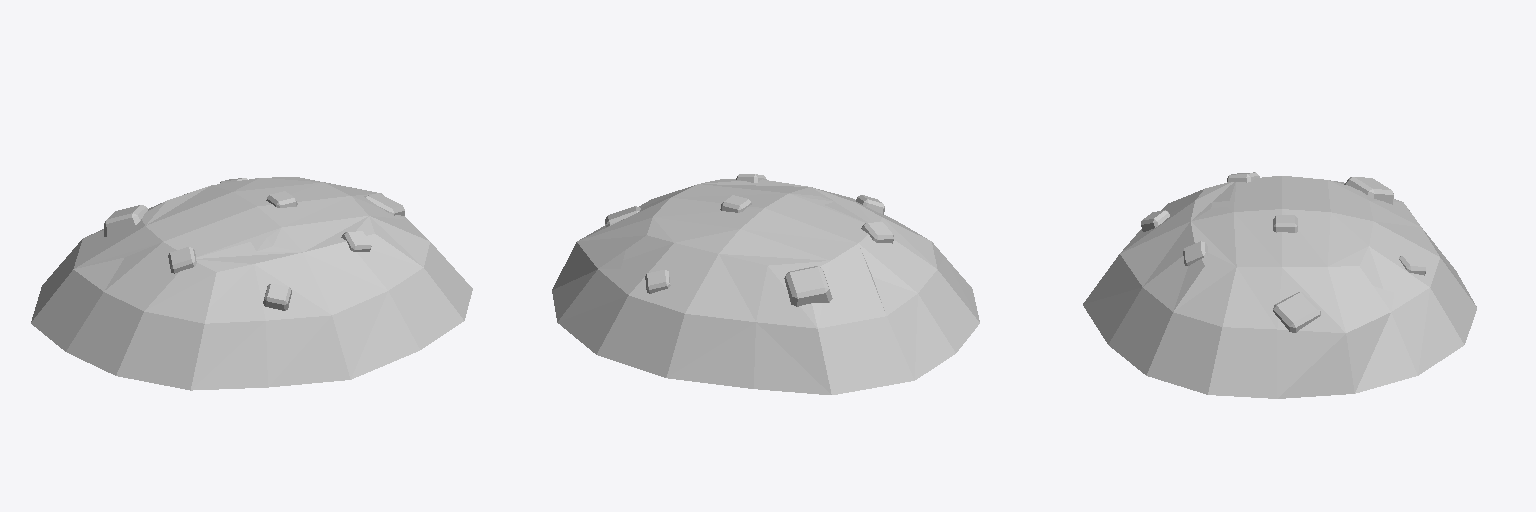
The model's file is SGround_1.obj.
The picture shows the model from 3 angles: view 1: azimuth 30°, elevation 25°; view 2: azimuth 150°, elevation 25°; view 3: azimuth 270°, elevation 25°; orthographic projection.
Parts seen in each view (by area): view 1: SGround_1; view 2: SGround_1; view 3: SGround_1.
Part boxes in pixels (bbox=[...]): SGround_1: bbox=[31, 177, 472, 390]; SGround_1: bbox=[552, 174, 979, 394]; SGround_1: bbox=[1083, 172, 1476, 398].
Size of the model in its own units: 0.9705 by 0.2485 by 0.8771.